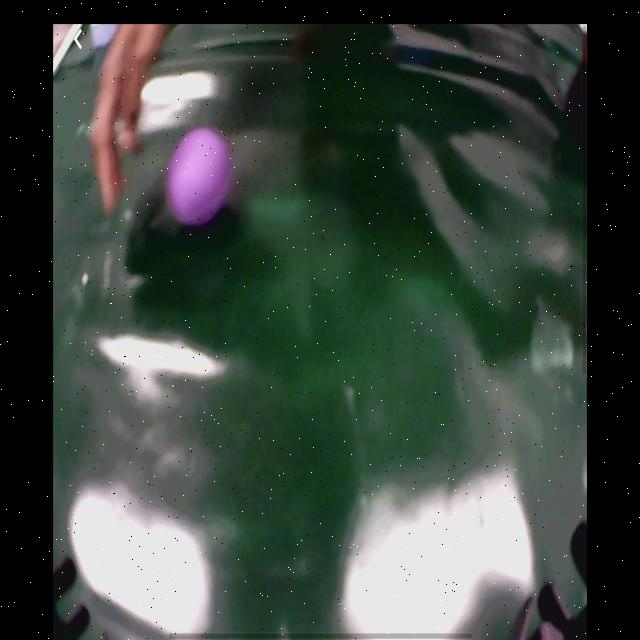ball: (167, 125, 233, 227)
